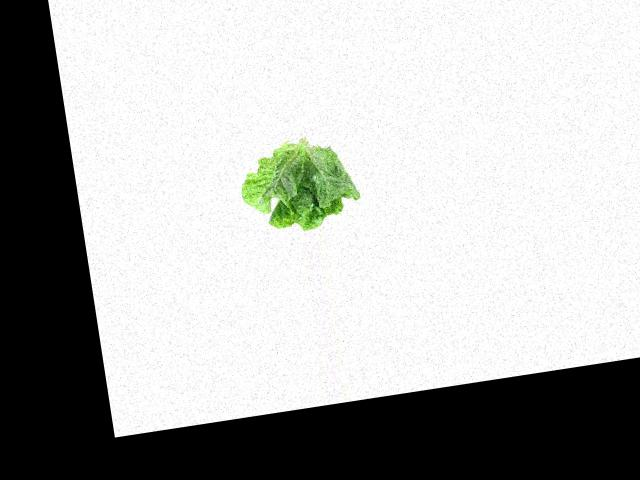lettuce: (236, 135, 365, 238)
